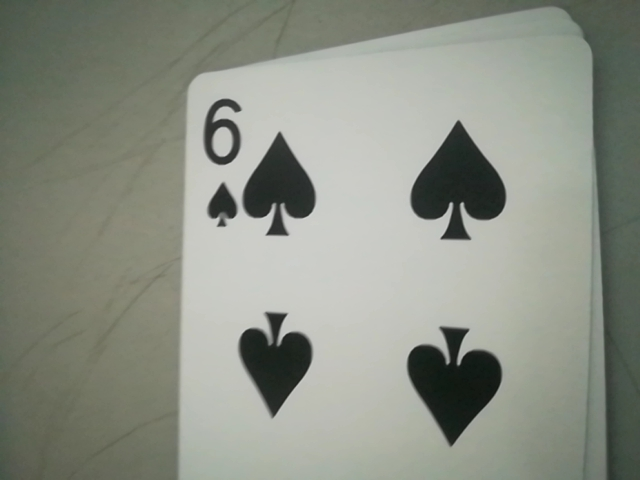ht 6: (187, 85, 255, 239)
